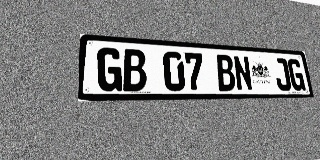0: (162, 51, 185, 91)
7: (183, 52, 206, 91)
B: (123, 49, 147, 91), (215, 54, 236, 91)
G: (97, 47, 122, 91), (287, 59, 306, 91)
J: (273, 58, 292, 91)
N: (232, 55, 253, 91)
